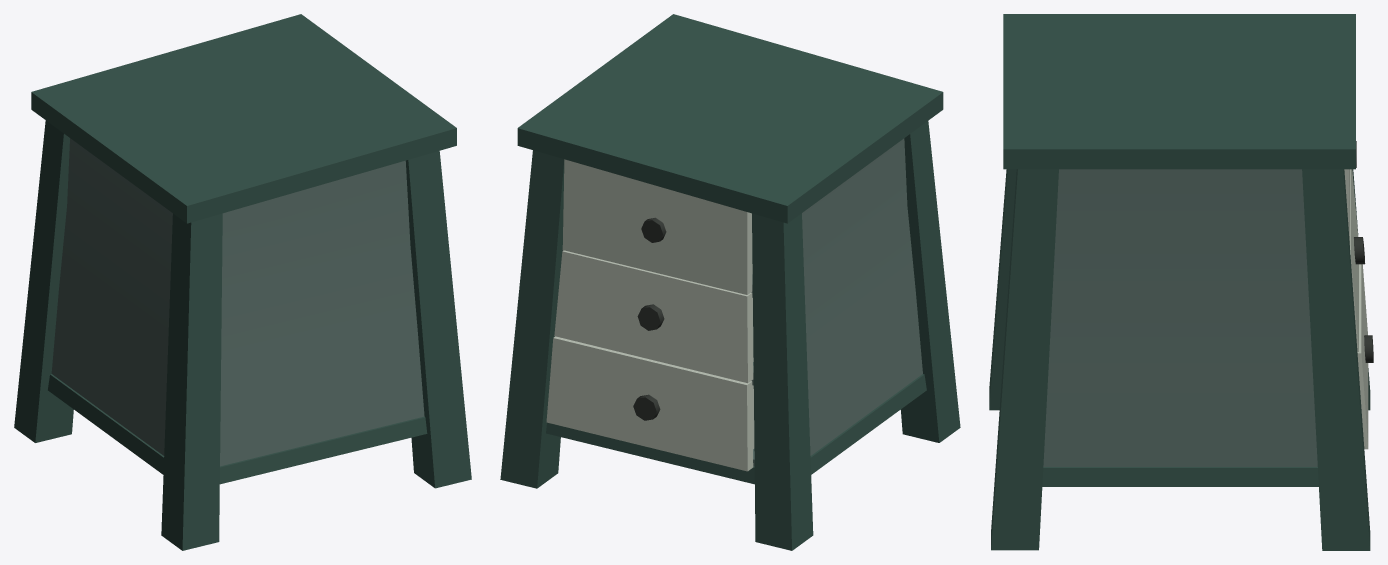
The model's file is childerns room pedestal.fbx.
3 views of the same model, side by side, from view 1: azimuth 30°, elevation 25°; view 2: azimuth 150°, elevation 25°; view 3: azimuth 270°, elevation 25° (orthographic). The views are drawn at different scales.
Visible parts, largest first — view 1: stuff children pedestal.001; view 2: stuff children pedestal.001, stuff children pedestal.003, stuff children pedestal.002, stuff children pedestal; view 3: stuff children pedestal.001, stuff children pedestal.003, stuff children pedestal.002.
Part boxes in pixels (x1,y1,x2,y2): stuff children pedestal.001: (14, 14, 471, 550); stuff children pedestal.001: (500, 14, 960, 550); stuff children pedestal.003: (546, 336, 754, 471); stuff children pedestal.002: (554, 250, 753, 383); stuff children pedestal: (562, 159, 752, 294); stuff children pedestal.001: (989, 14, 1370, 550); stuff children pedestal.003: (1357, 264, 1373, 449); stuff children pedestal.002: (1350, 169, 1365, 351).
Bounding box in the file's own units: 0.9976 × 1.14 × 1.01.
